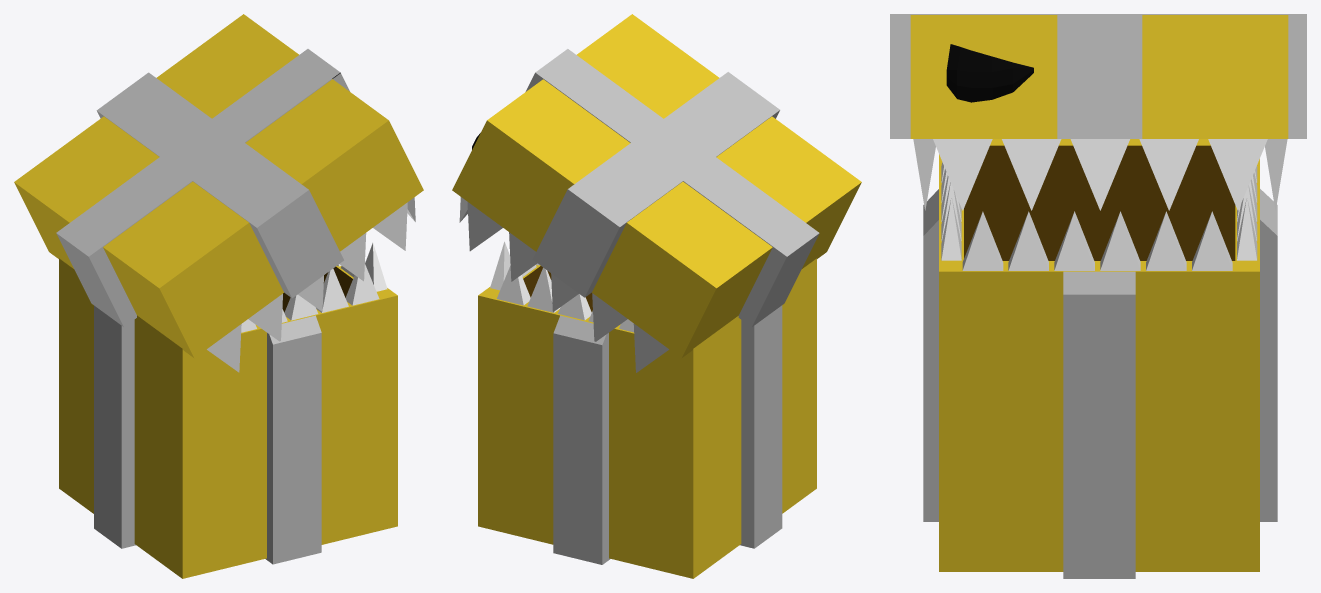
Rendered from RegaloAmarillo.fbx.
The picture shows the model from 3 angles, left to right: view 1: azimuth 30°, elevation 25°; view 2: azimuth 150°, elevation 25°; view 3: azimuth 270°, elevation 25°; orthographic projection. The views are drawn at different scales.
Visible parts, largest first — view 1: Cube.005, Cube.003; view 2: Cube.005, Cube.003; view 3: Cube.003, Cube.005.
Boxes of the visible parts, bbox=[...] form: Cube.005: bbox=[14, 14, 423, 372]; Cube.003: bbox=[59, 243, 397, 578]; Cube.005: bbox=[452, 14, 861, 372]; Cube.003: bbox=[478, 241, 816, 578]; Cube.003: bbox=[923, 139, 1277, 578]; Cube.005: bbox=[890, 14, 1306, 210].
Bounding box in the file's own units: 10.46 × 14.62 × 10.
